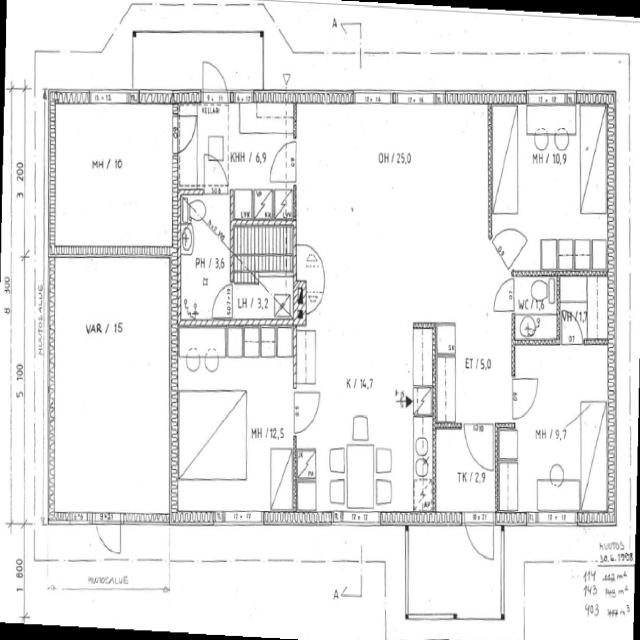door: (461, 418, 498, 473), (462, 511, 497, 566), (290, 384, 324, 438), (91, 511, 126, 561), (508, 369, 540, 420), (198, 58, 230, 99), (268, 138, 295, 183), (203, 153, 230, 195), (175, 110, 198, 154), (560, 310, 586, 348), (210, 280, 234, 320), (492, 275, 516, 313)
window: (92, 84, 133, 107), (390, 86, 436, 106), (352, 84, 392, 106)
zone: (296, 100, 495, 319), (49, 245, 172, 520), (292, 328, 440, 519), (173, 323, 294, 518), (486, 97, 614, 274), (498, 336, 612, 520), (49, 99, 179, 257), (231, 98, 294, 275), (175, 383, 249, 489), (179, 190, 233, 322), (578, 97, 614, 218), (556, 271, 609, 346), (512, 272, 559, 344), (231, 273, 293, 326)
